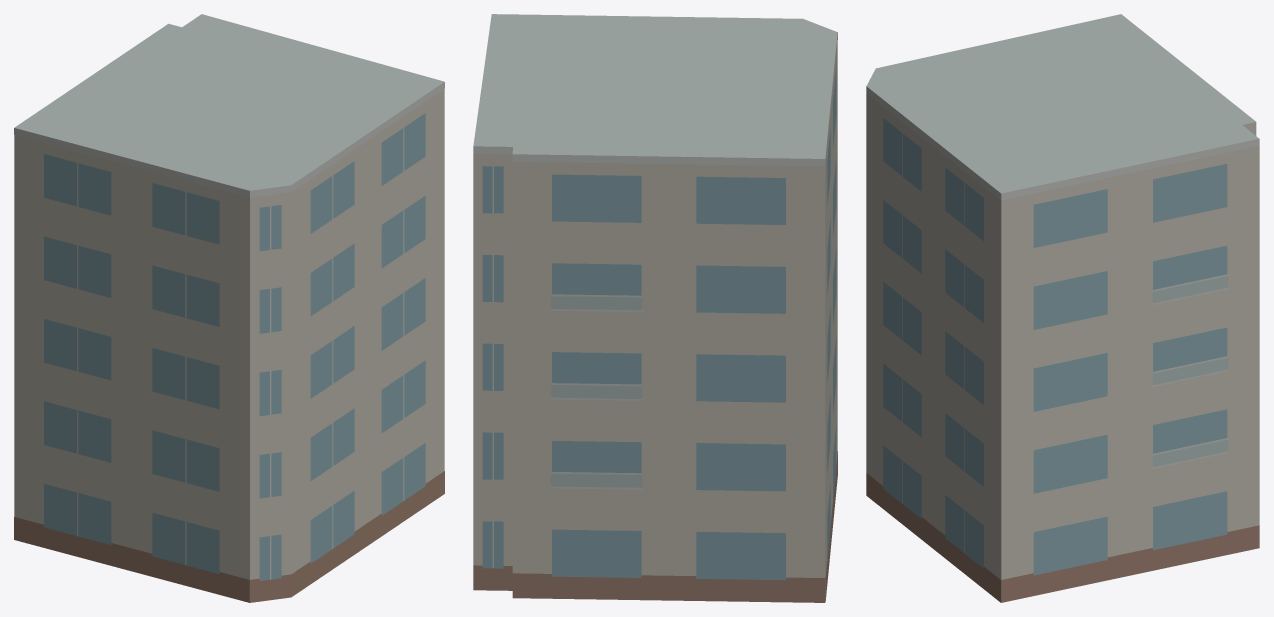
File: survey-upis-33034922.glb
3 renders of one model, left to right at view 1: azimuth 30°, elevation 25°; view 2: azimuth 150°, elevation 25°; view 3: azimuth 270°, elevation 25°, orthographic. The views are drawn at different scales.
Visible parts, largest first — view 1: survey-upis-33034922.tmp; view 2: survey-upis-33034922.tmp; view 3: survey-upis-33034922.tmp.
Boxes of the visible parts, x1,y1,x2,y2 form: survey-upis-33034922.tmp: [14, 14, 444, 602]; survey-upis-33034922.tmp: [473, 14, 837, 602]; survey-upis-33034922.tmp: [866, 14, 1259, 602].
Bounding box in the file's own units: 13.55 × 14.4 × 12.54.
